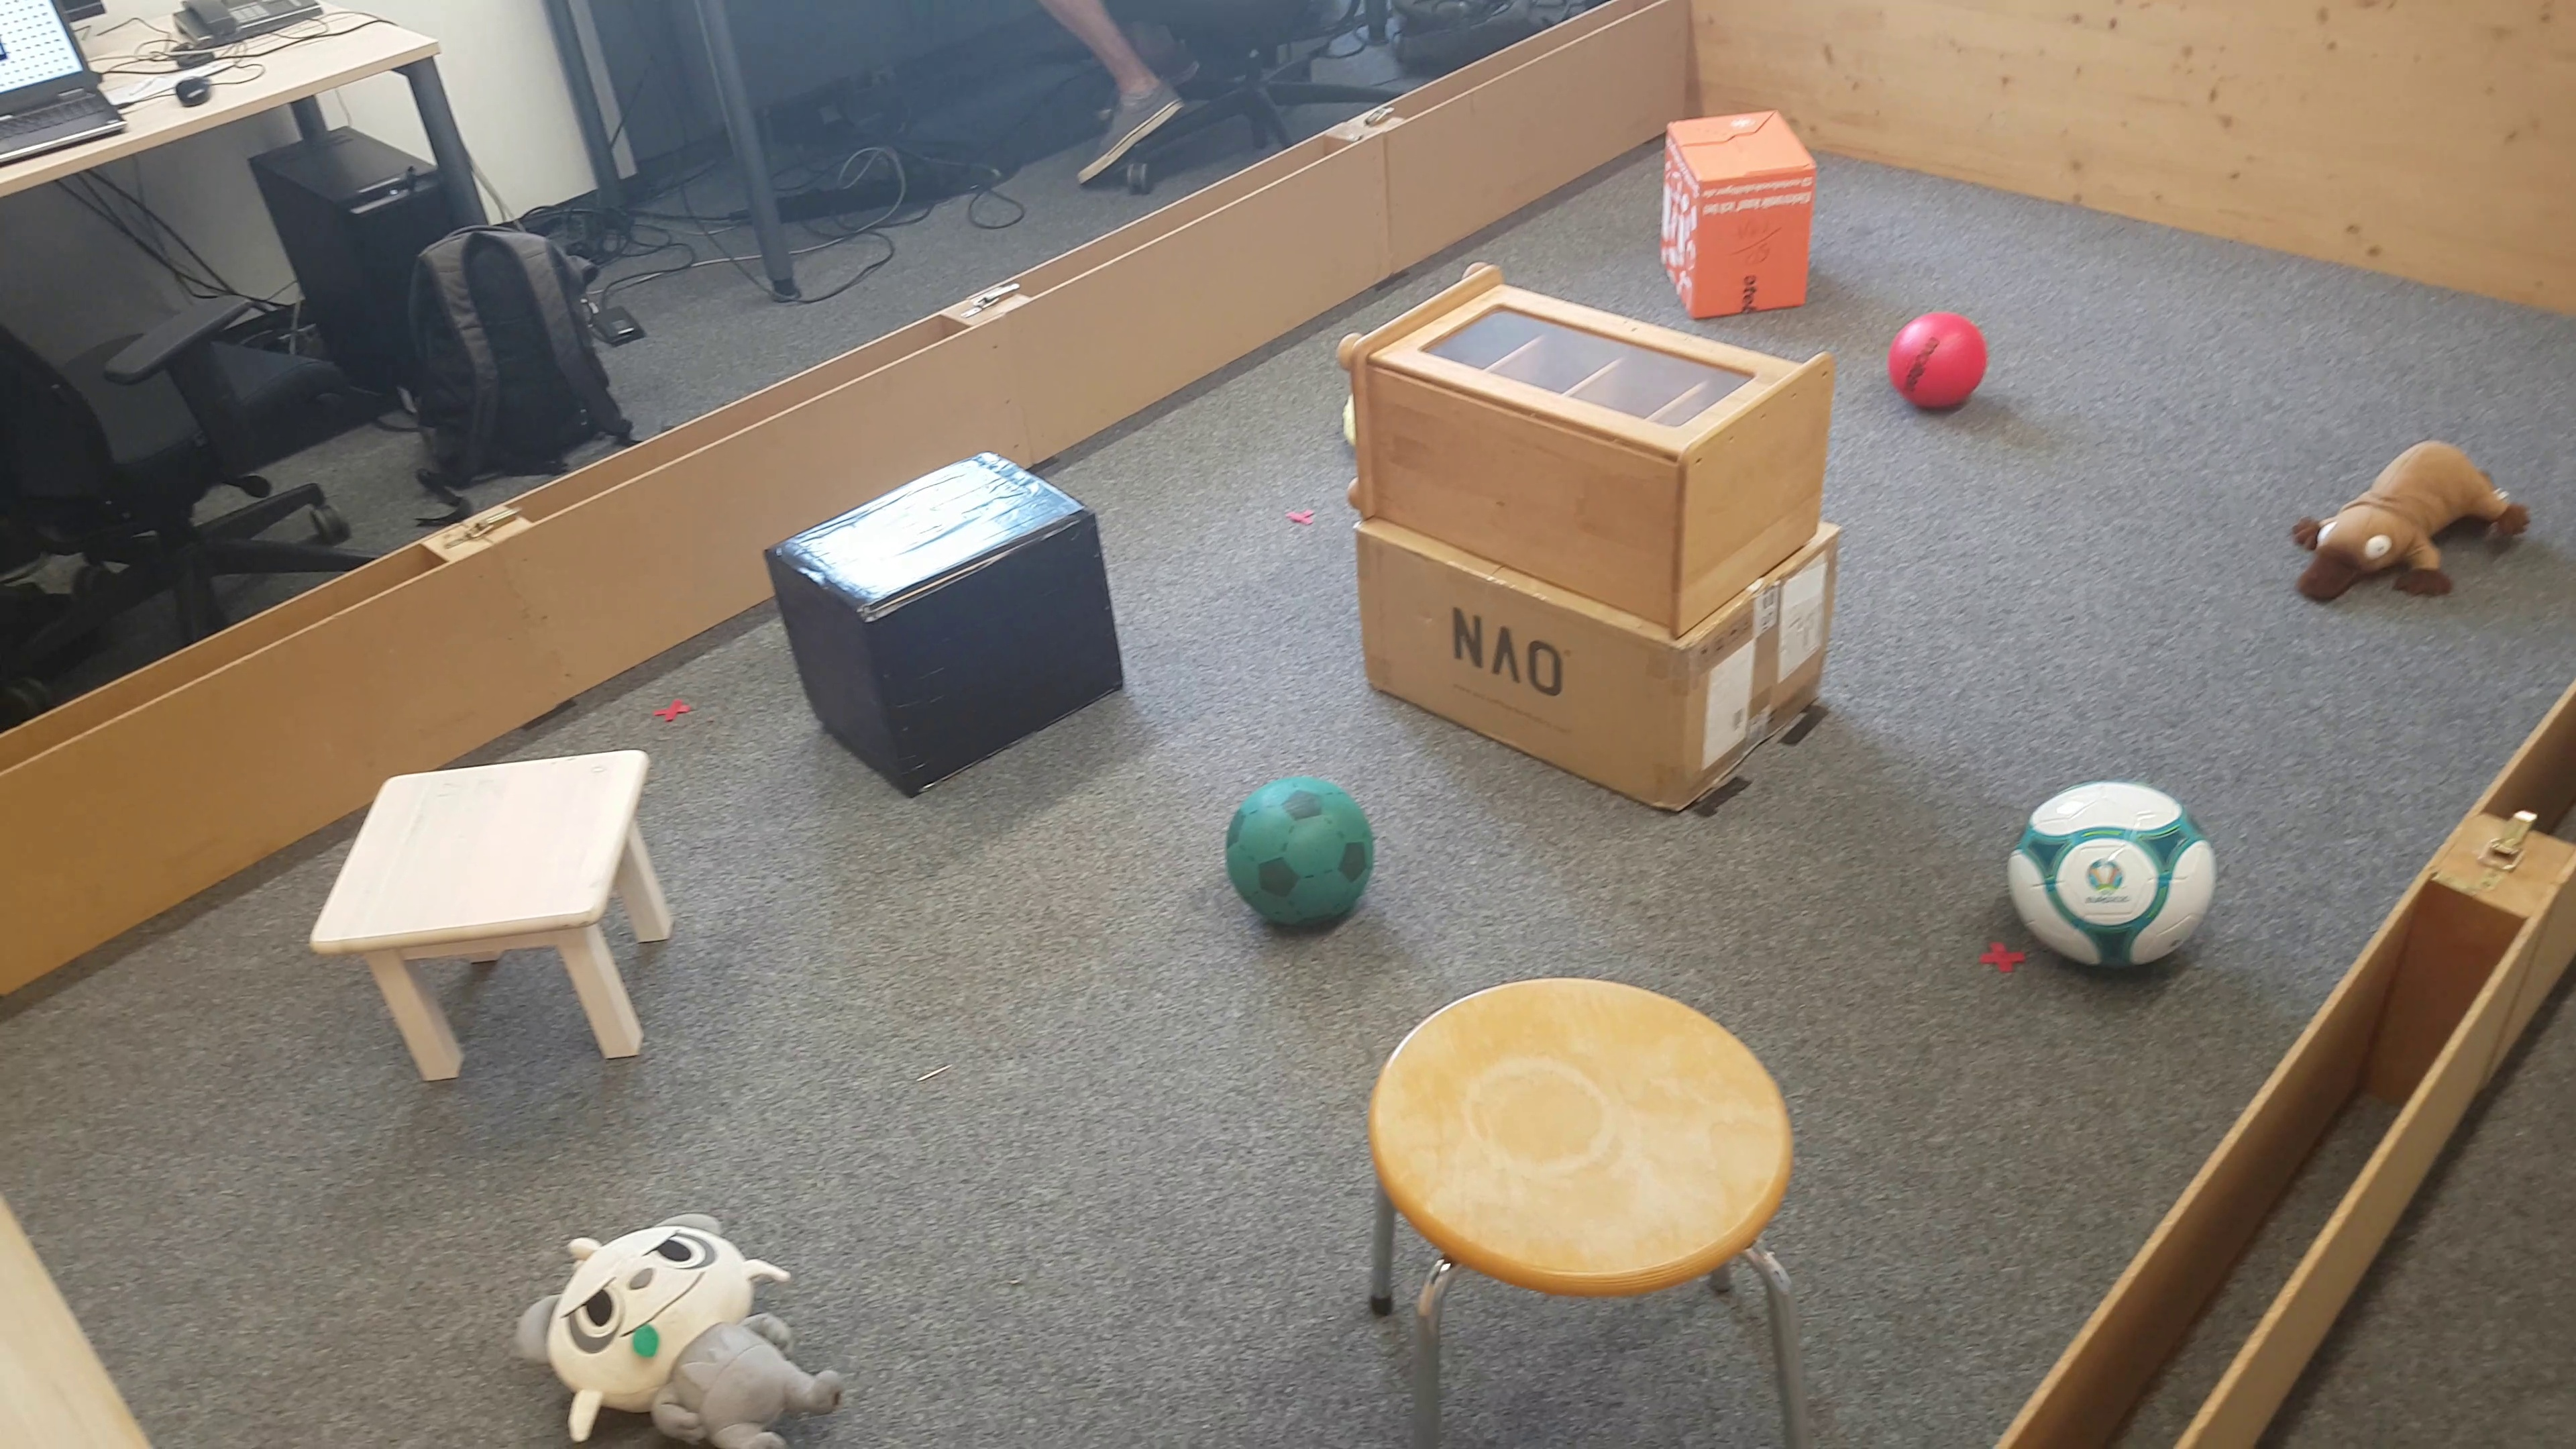grasp: (508, 1210, 855, 1449), (2291, 433, 2525, 610)
kick: (2012, 782, 2219, 985), (1223, 773, 1375, 938), (1890, 308, 1992, 419)
push: (761, 455, 1131, 791), (1660, 108, 1819, 331)
